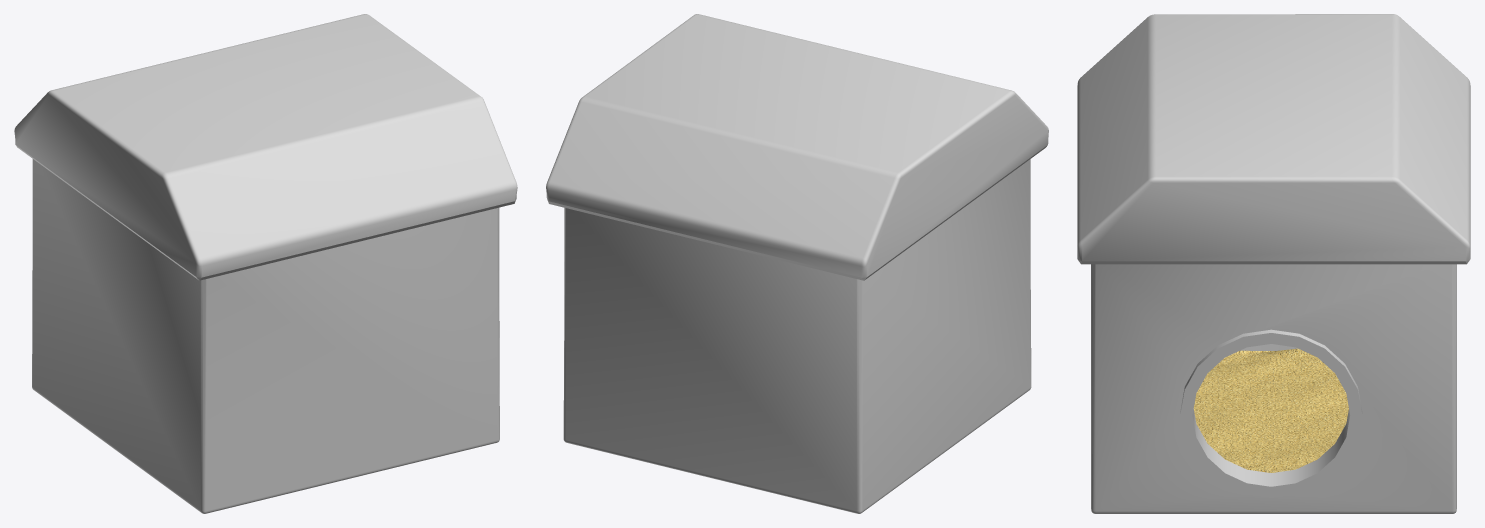
The model's file is HouseModel.FBX.
3 renders of one model, left to right at view 1: azimuth 30°, elevation 25°; view 2: azimuth 150°, elevation 25°; view 3: azimuth 270°, elevation 25°, orthographic. The views are drawn at different scales.
Visible parts, largest first — view 1: Box001; view 2: Box001; view 3: Box001, Box003, Tube001.
Part boxes in pixels (box(x1,y1,x2,y2)): Box001: box(14, 14, 517, 513); Box001: box(546, 14, 1048, 513); Box001: box(1077, 14, 1470, 513); Box003: box(1193, 348, 1348, 472); Tube001: box(1180, 329, 1362, 497).
Bounding box in the file's own units: 32.24 × 31 × 32.24.
